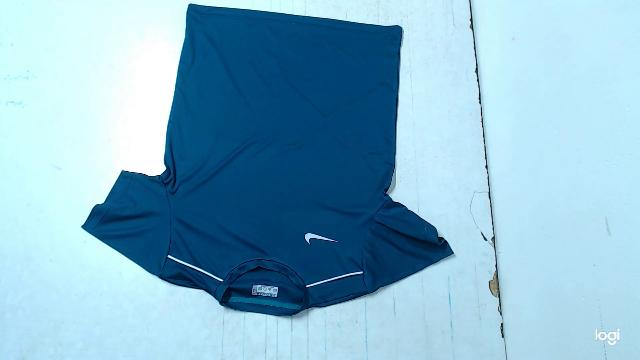new-garment: (82, 4, 452, 316)
